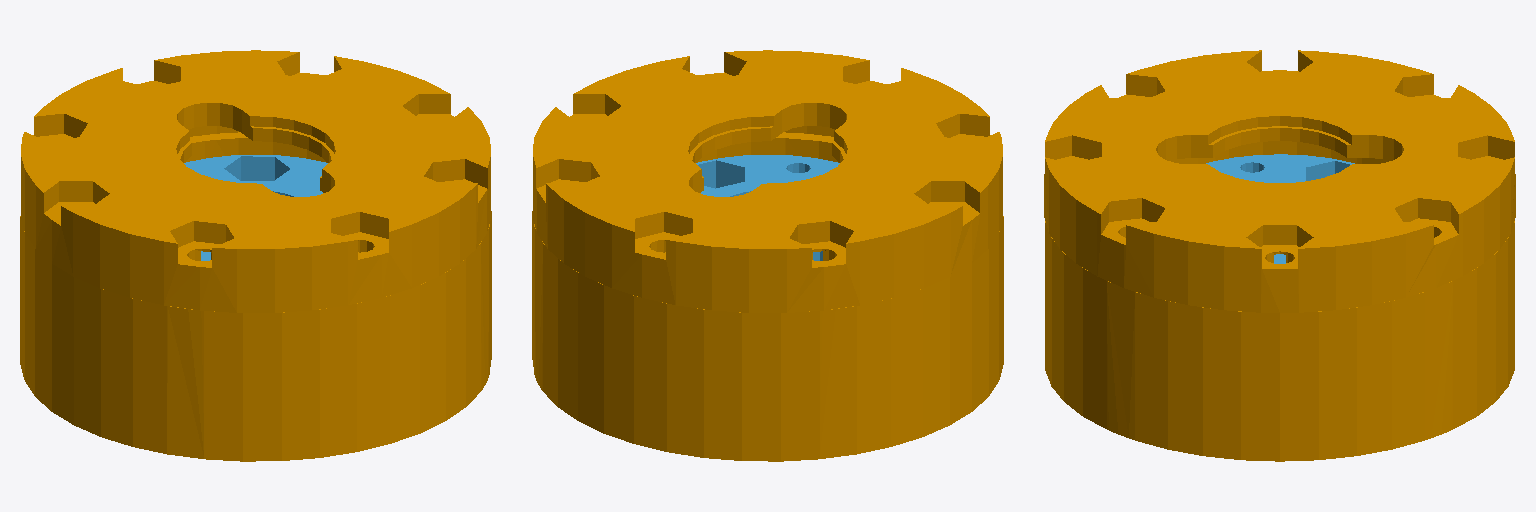
The robot description file, URDF, robot "encoder":
<?xml version="1.0"?>
<robot name="encoder">

  <link name="stator">
    <visual>
      <origin xyz="0 0 0" rpy="0 0 0"/>
      <geometry>
        <mesh filename="stl/stator-coarse.STL"/>
      </geometry>
    </visual>
    <collision>
      <origin xyz="0 0 -2.16" rpy="0 0 0"/>
      <geometry>
        <cylinder radius="21" length="20.88"/>
      </geometry>
    </collision>
  </link>

  <link name="rotor">
    <visual>
      <origin xyz="0 0 0" rpy="0 0 0"/>
      <geometry>
        <mesh filename="stl/rotor-coarse.STL"/>
      </geometry>
    </visual>
    <collision>
      <origin xyz="0 0 -6.8" rpy="0 0 0"/>
      <geometry>
        <cylinder radius="13.45" length="17.6"/>
      </geometry>
    </collision>
  </link>

  <joint name="encoder_joint" type="continuous">
    <parent link="stator"/>
    <child link="rotor"/>
    <origin xyz="0 0 0" rpy="0 0 0"/>
    <axis xyz="0 0 1"/>
  </joint>

</robot>

--- Render facts (derived) ---
The picture shows the robot from 3 angles, left to right: view 1: azimuth 30°, elevation 25°; view 2: azimuth 150°, elevation 25°; view 3: azimuth 270°, elevation 25°; orthographic projection.
Robot: encoder — 2 links, 1 joints (1 continuous); root link stator; default pose: all joints at 0.
Visible links, largest first — view 1: stator, rotor; view 2: stator, rotor; view 3: stator, rotor.
Link boxes in pixels (x1,y1,x2,y2): stator: [20, 50, 491, 461]; rotor: [184, 155, 327, 260]; stator: [532, 50, 1003, 461]; rotor: [696, 155, 839, 260]; stator: [1044, 50, 1515, 461]; rotor: [1206, 154, 1354, 263].
Size in the robot's own frame: 0.042 by 0.042 by 0.0239 metres.
Meshes: 2 distinct files referenced, 2 mesh visuals loaded (2 binary STL).
